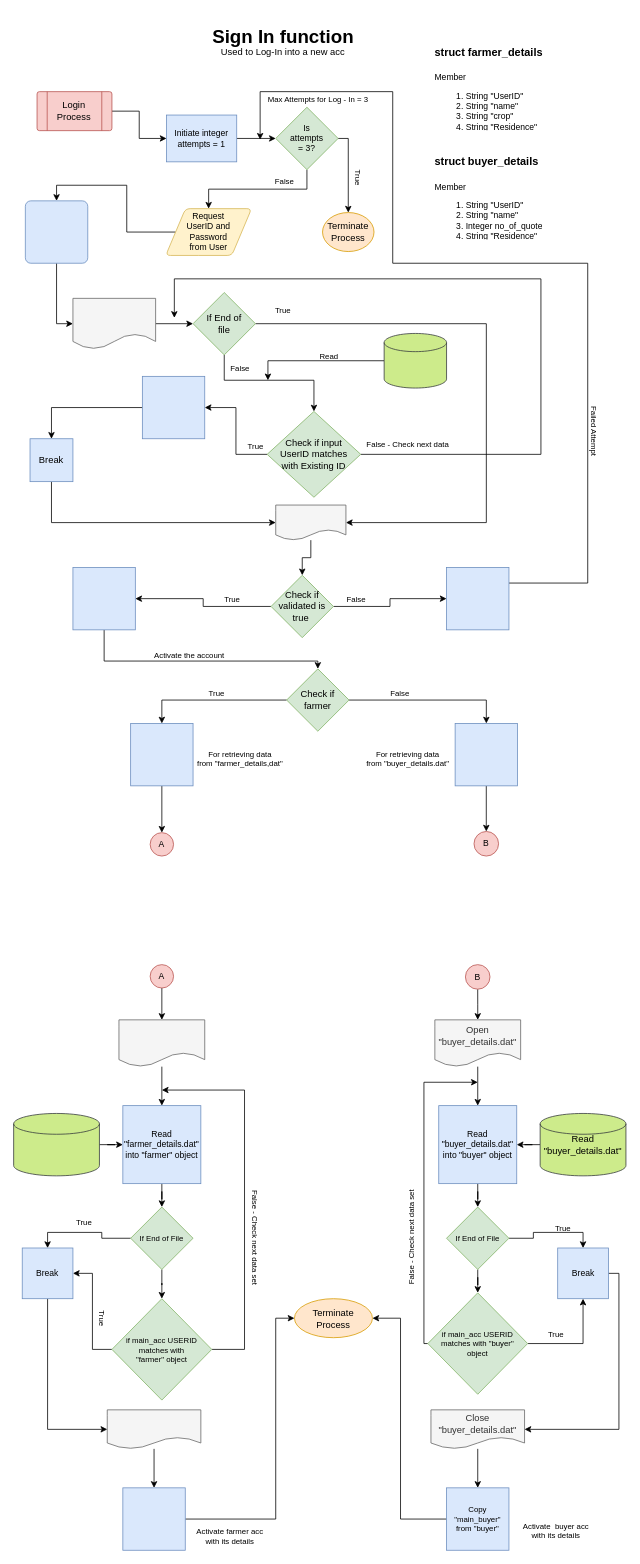
This 640x1564 diagram has some shape labels left out. Each missing label, with the centre of its shape:
Close "acc.dat": pixel 310 522
Close "farmer_details.dat": pixel 153 1429
Copy "main_farmer" from "farmer": pixel 153 1518
Create buyer_details structure object "buyer": pixel 486 754
Create farmer_details structure object "farmer": pixel 161 754
Create sample basic_details object "acc": pixel 56 231
Increment attempts by 1: pixel 477 598
Open "acc.dat" file on pointer fp: pixel 114 323
Open "farmer_details.dat": pixel 161 1043
Read "farmer_details.dat": pixel 56 1144
Read Data from "acc.dat": pixel 415 360
Set main_acc object to acc object: pixel 103 598
Set Validation to true: pixel 173 407
